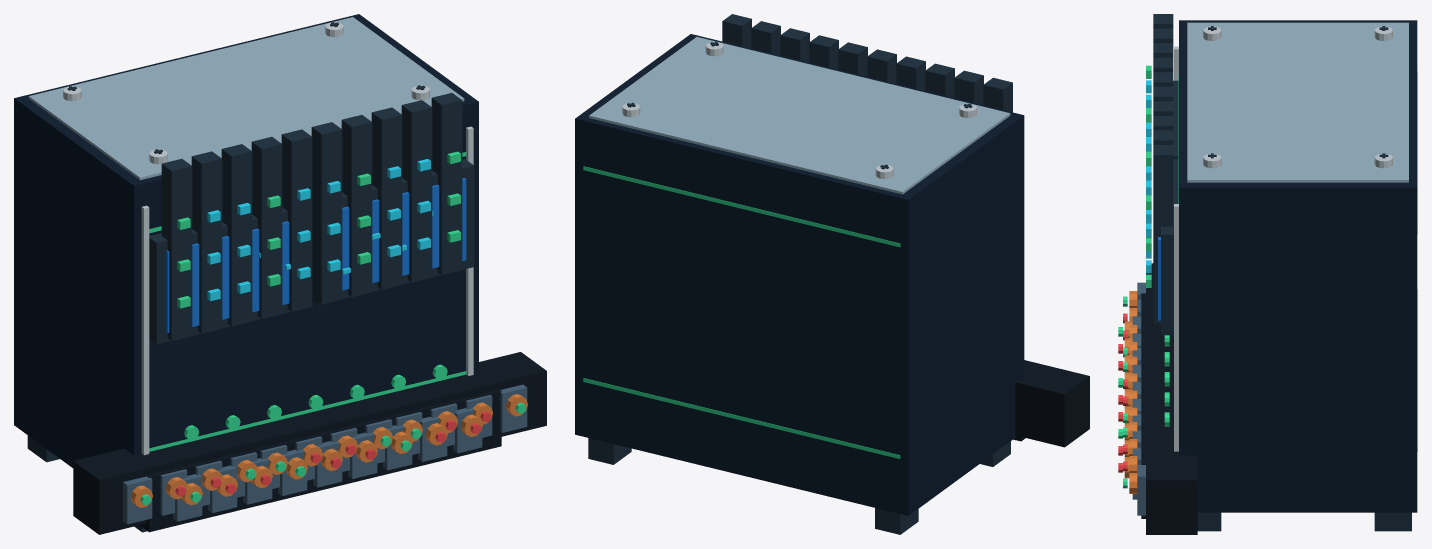
Rendered from 52_L74_LithographyProcessPLCRack.fbx.
3 views of the same model, side by side, from view 1: azimuth 30°, elevation 25°; view 2: azimuth 150°, elevation 25°; view 3: azimuth 270°, elevation 25° (orthographic). The views are drawn at different scales.
Visible parts, largest first — view 1: LithographyProcessPLCRack; view 2: LithographyProcessPLCRack; view 3: LithographyProcessPLCRack.
Part boxes in pixels (box(x1,y1,x2,y2)): LithographyProcessPLCRack: box(14, 14, 546, 534); LithographyProcessPLCRack: box(575, 14, 1089, 534); LithographyProcessPLCRack: box(1118, 14, 1417, 534).
Bounding box in the file's own units: 179 × 141 × 104.
